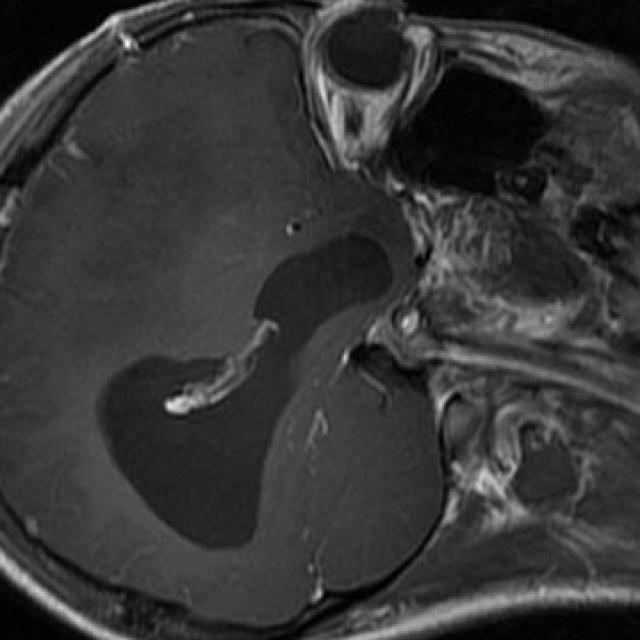glioma: (96, 234, 394, 549)
